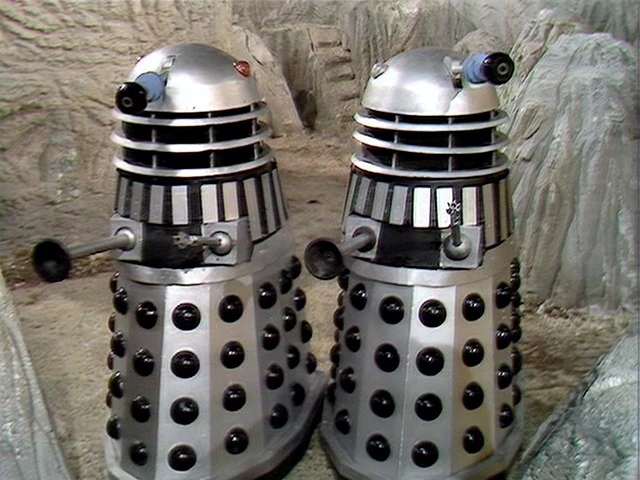Dalek: (101, 26, 320, 480), (340, 36, 532, 480)
